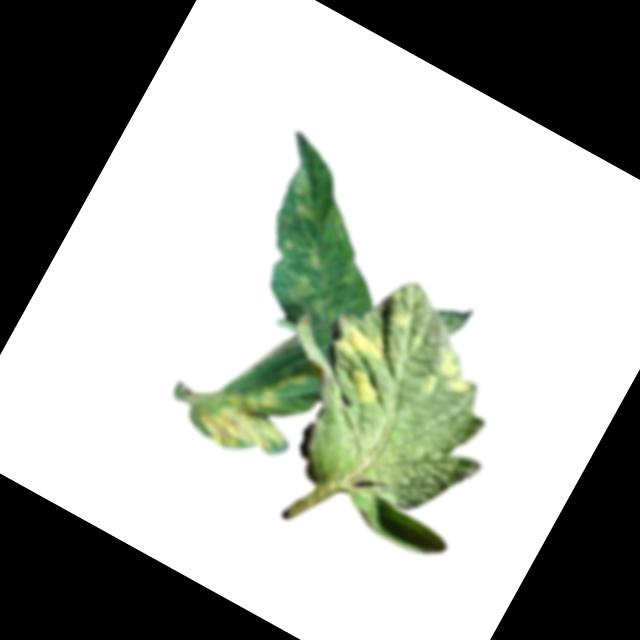Leaf_Mold: (193, 341, 316, 472), (417, 342, 482, 412), (269, 232, 332, 299), (276, 165, 338, 227), (331, 313, 393, 367), (340, 362, 390, 413)
